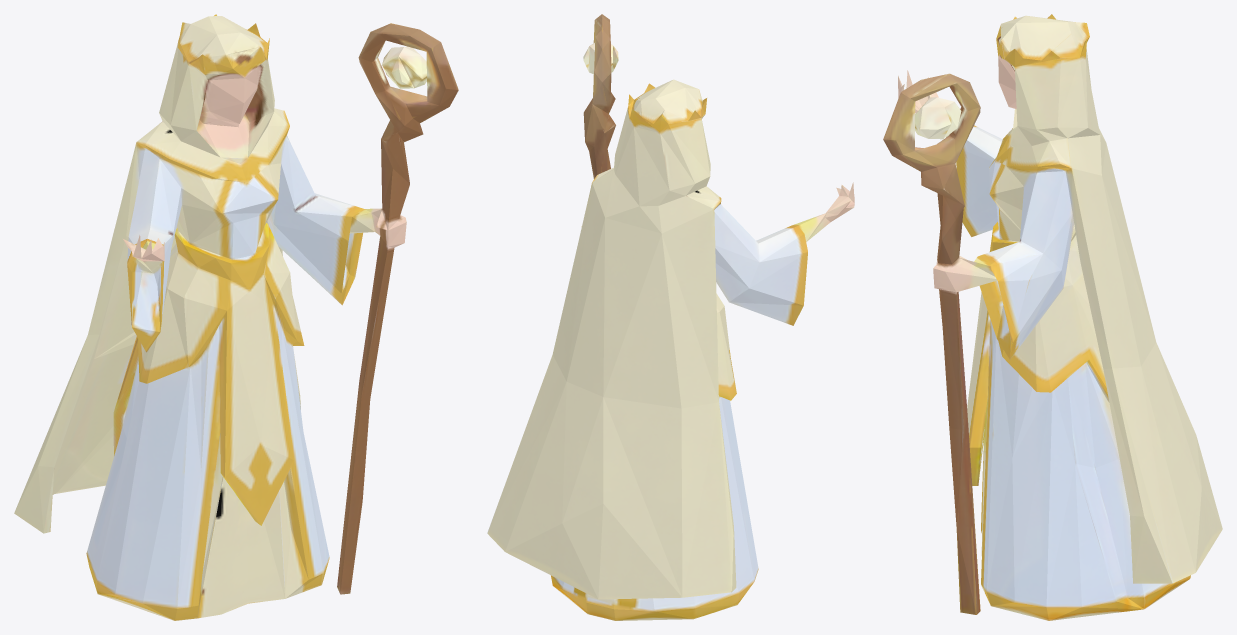
The model's file is healer-lite.glb.
3 renders of one model, left to right at view 1: azimuth 30°, elevation 25°; view 2: azimuth 150°, elevation 25°; view 3: azimuth 270°, elevation 25°, orthographic. The views are drawn at different scales.
Visible parts, largest first — view 1: Mesh1.0; view 2: Mesh1.0; view 3: Mesh1.0.
Part boxes in pixels (<box>): Mesh1.0: <box>14,14,458,620</box>; Mesh1.0: <box>487,14,854,620</box>; Mesh1.0: <box>883,14,1222,620</box>.
Size of the model in its own units: 1.05 by 1.8 by 0.9955.
Materials: 1 (1 with a texture image).
